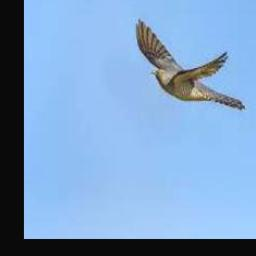Cuckoo: (136, 19, 246, 109)
